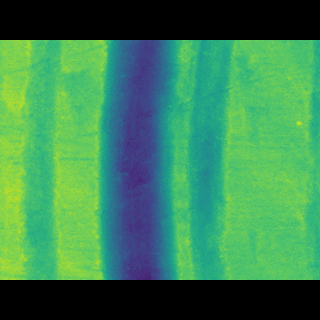Loch: (0, 69, 239, 249)
